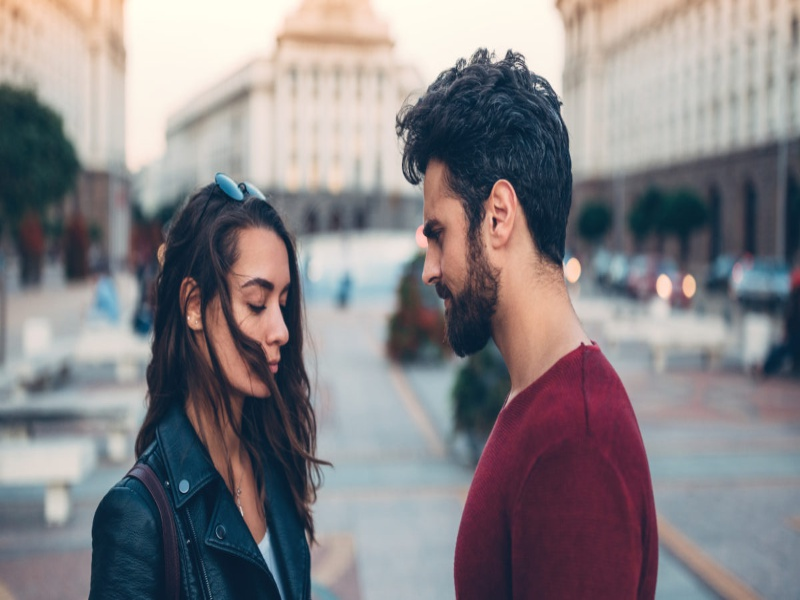TsisyArotava: (383, 82, 561, 369), (154, 182, 317, 411)
